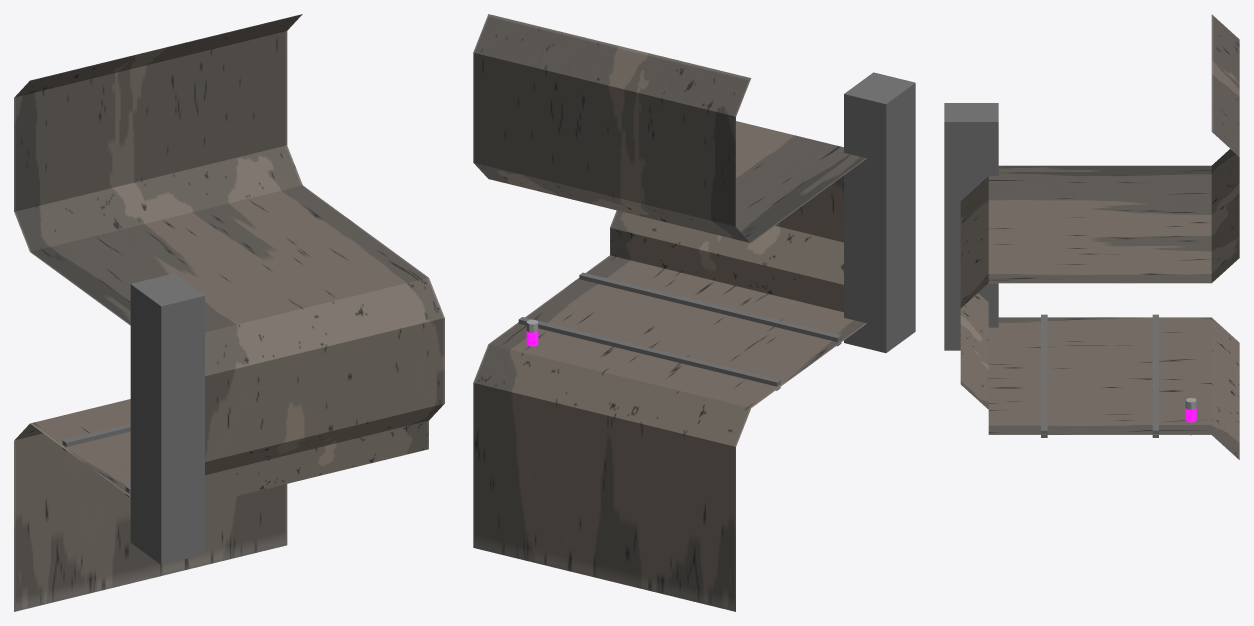
Rendered from ExportedFBXFile.fbx.
3 renders of one model, left to right at view 1: azimuth 30°, elevation 25°; view 2: azimuth 150°, elevation 25°; view 3: azimuth 270°, elevation 25°, orthographic. The views are drawn at different scales.
Parts seen in each view (by area): view 1: tunnelpart, pCube3, pCube1; view 2: tunnelpart, pCube3, pCube2, pCube1; view 3: tunnelpart, pCube3, pCube2, pCube1.
Boxes of the visible parts, x1,y1,x2,y2 form: tunnelpart: (14,14,444,611); pCube3: (130,273,204,564); pCube1: (62,423,130,451); tunnelpart: (473,14,866,611); pCube3: (844,72,915,352); pCube2: (579,272,841,346); pCube1: (518,317,780,390); tunnelpart: (960,14,1239,459); pCube3: (944,103,998,350); pCube2: (1041,314,1047,437); pCube1: (1152,314,1158,437).
Bounding box in the file's own units: 10.72 × 19 × 10.58.
5 materials, 1 textured.
